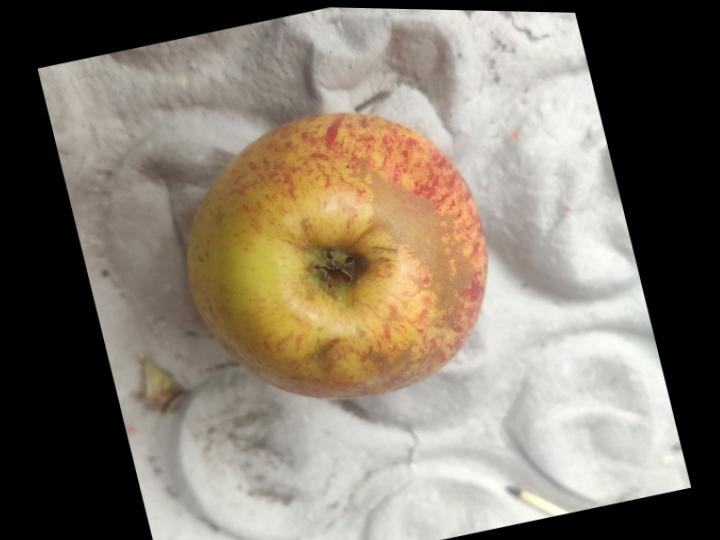apple: (187, 113, 486, 397)
bruise_discoloration: (370, 172, 477, 315)
